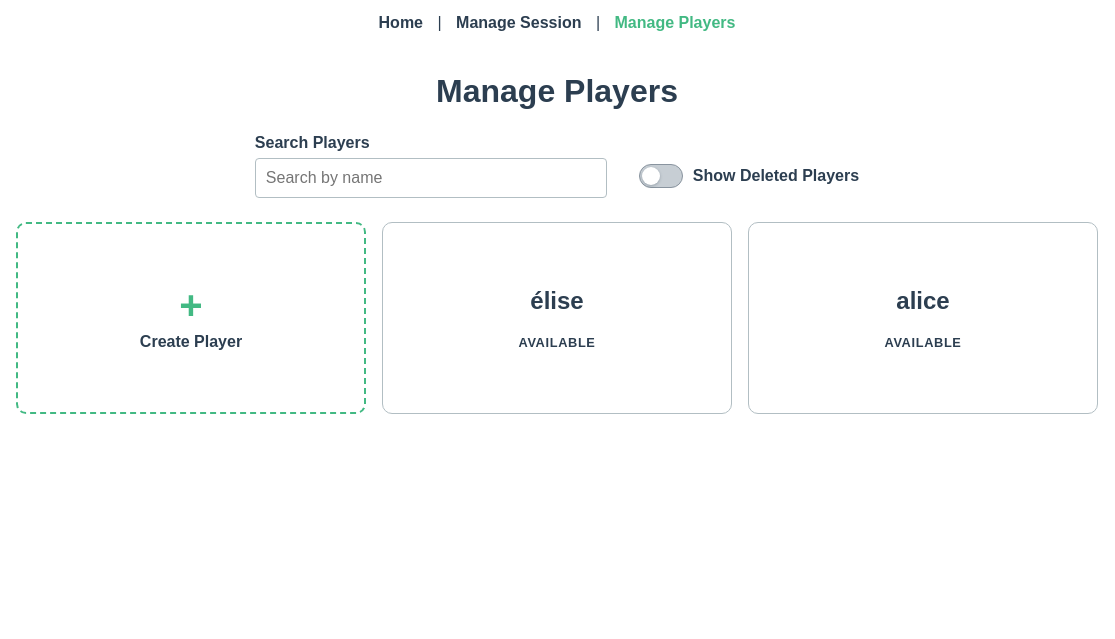
Test case: Application routes › loads and filters Players without initializing a Session
The width and height of the screenshot is (1115, 639).
Expected: the number of buttons is 3, [16,222,366,414]; [382,222,732,414]; [748,222,1098,414]
Expected: the button "Create Player" is shown, [16,222,366,414]
Type "ELISE" into the search field labelled "Search Players" at (431, 178), box [255,158,607,198]
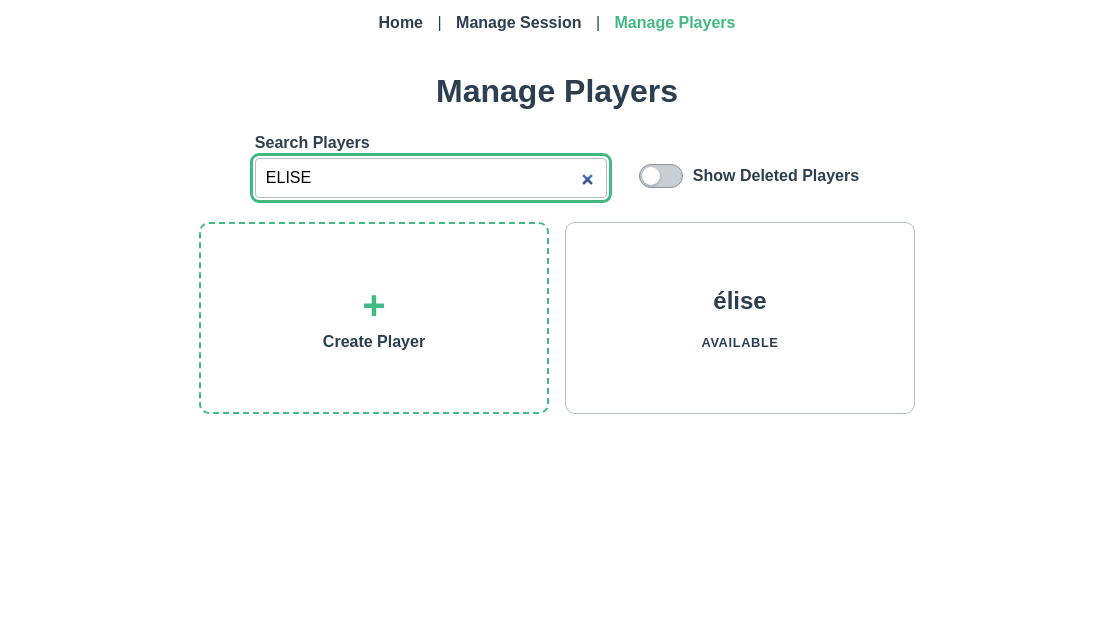
Expected: the element showing "élise AVAILABLE" is shown, [565,222,915,414]
Clear the search field labelled "Search Players" at (431, 178), box [255,158,607,198]
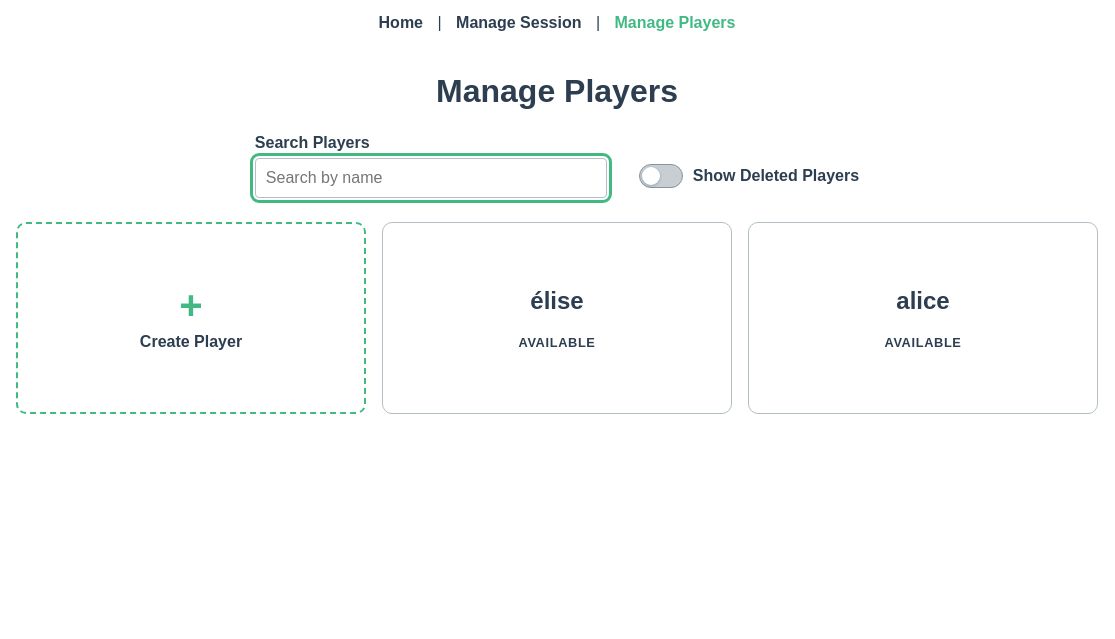
Check the switch with id "show-deleted-players" at (661, 176), box [639,164,683,188]
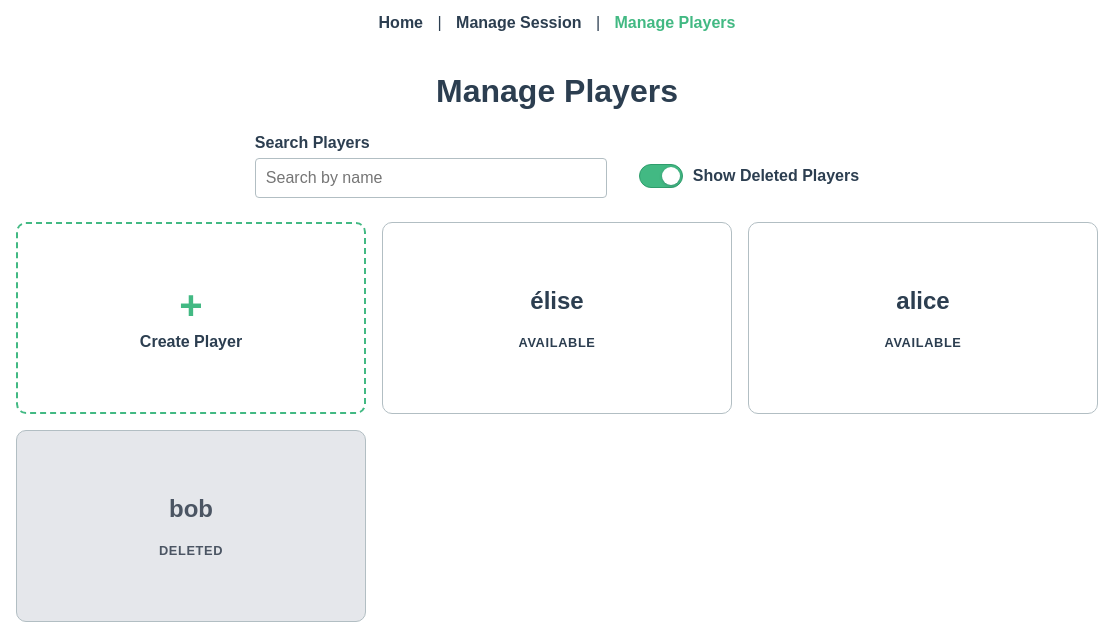
Expected: the element showing "bob DELETED" is shown, [16,430,366,622]
